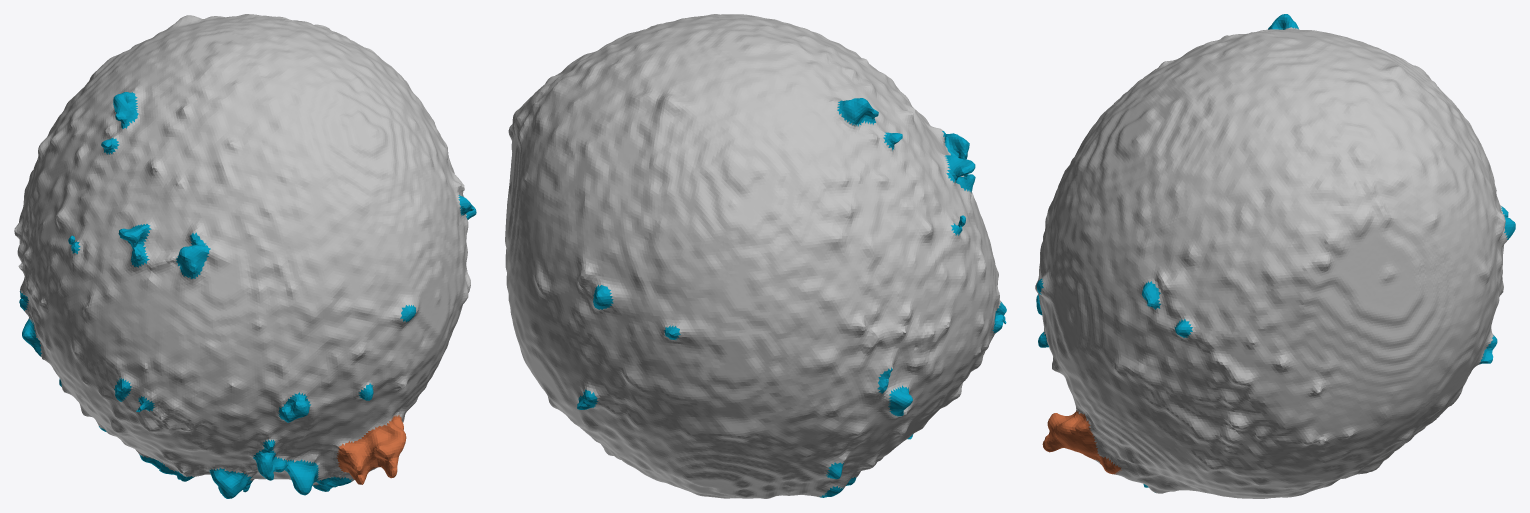
3 renders of one model, left to right at view 1: azimuth 30°, elevation 25°; view 2: azimuth 150°, elevation 25°; view 3: azimuth 270°, elevation 25°, orthographic. The views are drawn at different scales.
Size of the model in its own units: 127 by 130 by 127.
